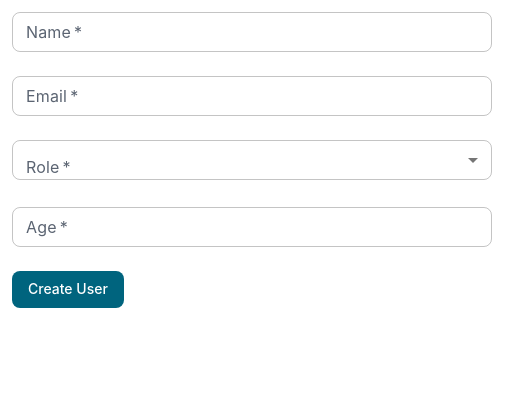
Scenario: UserForm validation › shows an error for an invalid email format
Step 1. Type "not-an-email" into the field labelled "Email *" → point(252, 96), box [12,76,492,116]
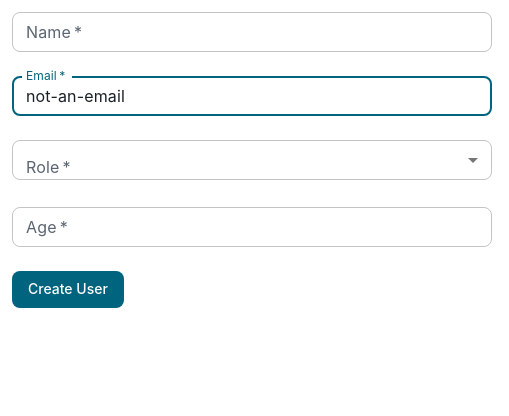
Step 2. Click the button "Create User" → point(68, 289), box [12,271,124,308]
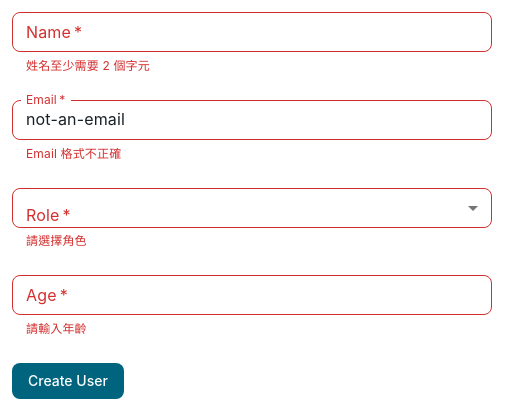
Now the text "Email 格式不正確" is shown, box [26,146,121,161]
